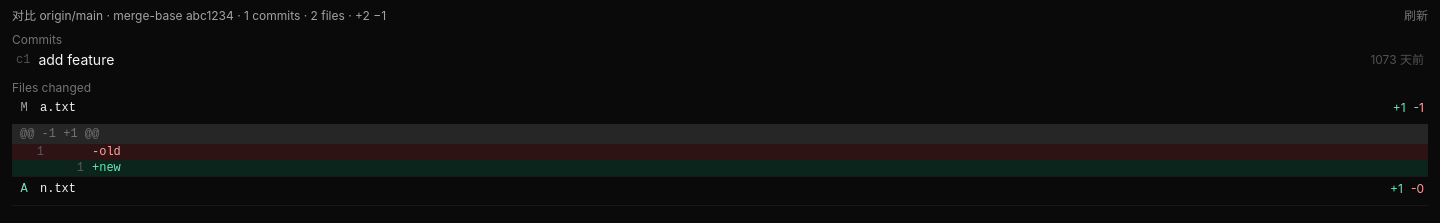
Test case: GitDiffView › renders hunks by default and collapses them on click
Expected: the text "new" is shown, [99, 161, 121, 175]
Expected: the text "old" is shown, [99, 145, 121, 159]
# 点一下折叠它：hunk 文本随之消失。
Click the button "M a.txt +1 -1". click: {"x": 58, "y": 108}
box: [12, 96, 1428, 120]
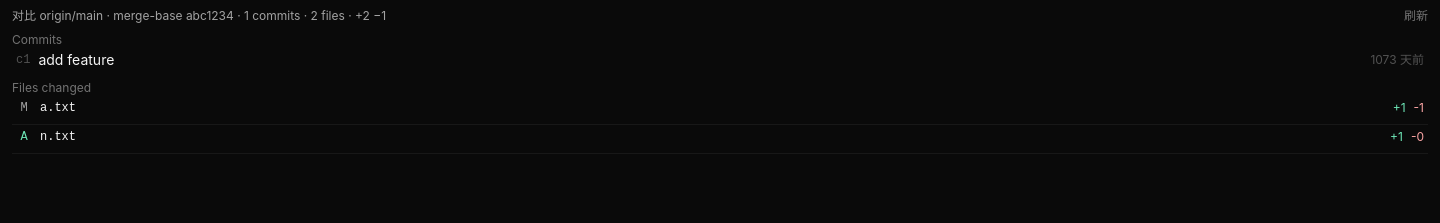
Now the text "new" is gone
